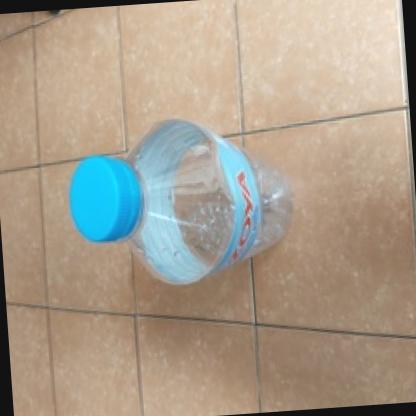plastic_bottles: (50, 118, 310, 304)
